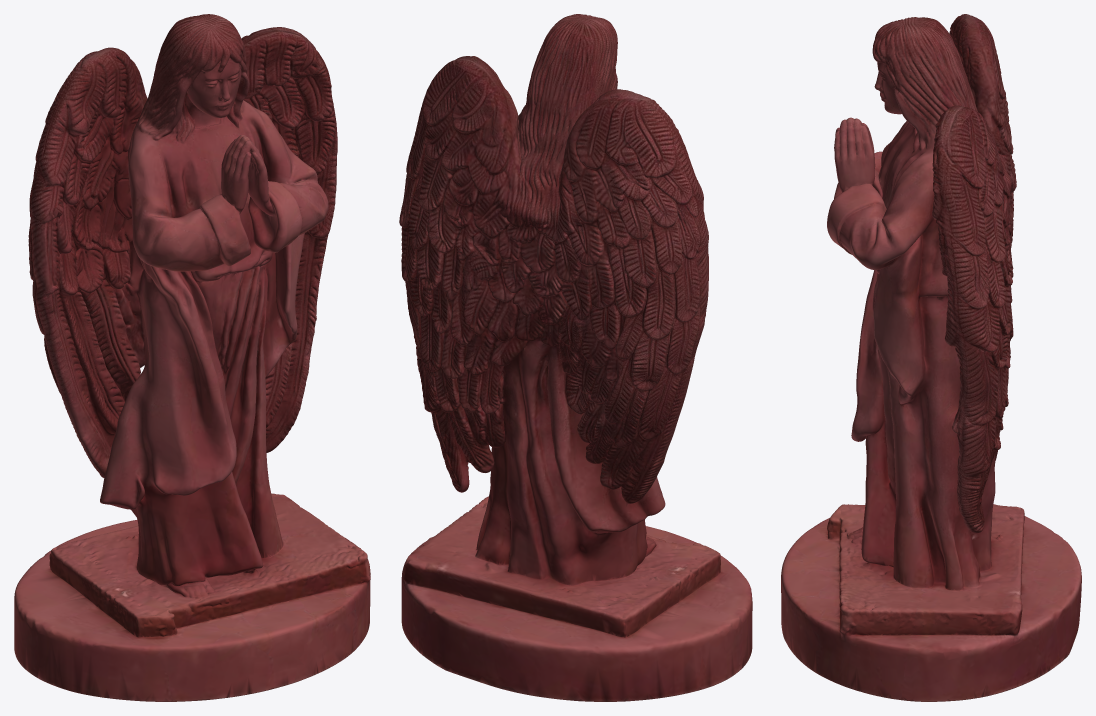
The model's file is obra-06-san-miguel-arcangel_nuevo-mobile.glb.
The picture shows the model from 3 angles, left to right: view 1: azimuth 30°, elevation 25°; view 2: azimuth 150°, elevation 25°; view 3: azimuth 270°, elevation 25°; orthographic projection. The views are drawn at different scales.
Bounding box in the file's own units: 1.04 × 1.9 × 0.8578.
Materials: 1 (1 with a texture image).
